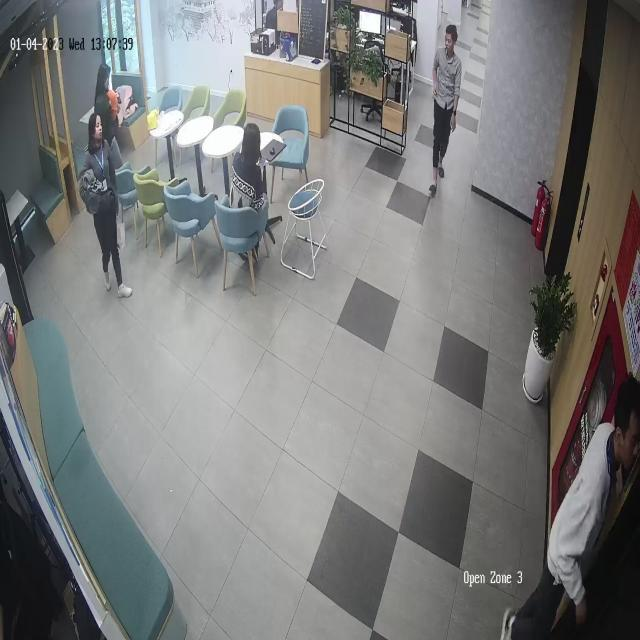person: (498, 374, 640, 638), (77, 112, 134, 300), (229, 121, 277, 258), (431, 23, 463, 195), (94, 63, 128, 167)
